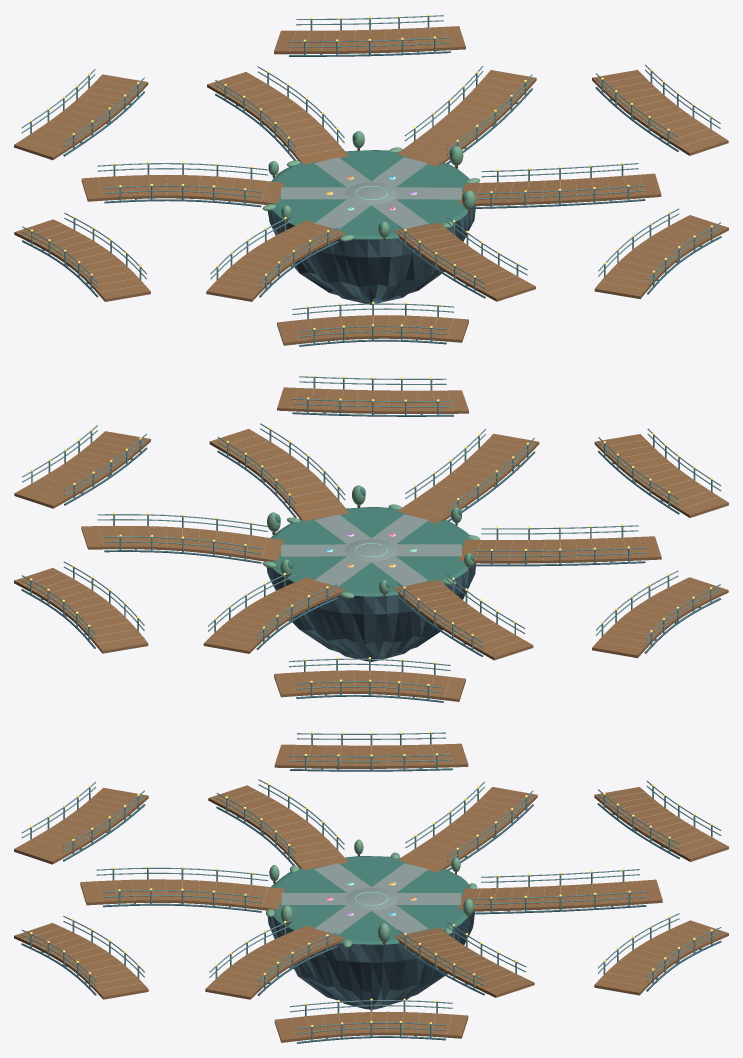
File: world-hub.glb
The picture shows the model from 3 angles, top to bottom: view 1: azimuth 30°, elevation 25°; view 2: azimuth 150°, elevation 25°; view 3: azimuth 270°, elevation 25°; orthographic projection.
Parts seen in each view (by area): view 1: world-hub; view 2: world-hub; view 3: world-hub.
Boxes of the visible parts, bbox=[...] form: world-hub: bbox=[14, 14, 728, 346]; world-hub: bbox=[14, 375, 728, 702]; world-hub: bbox=[14, 731, 728, 1043].
Bounding box in the file's own units: 38.7 × 8.2 × 38.59.
